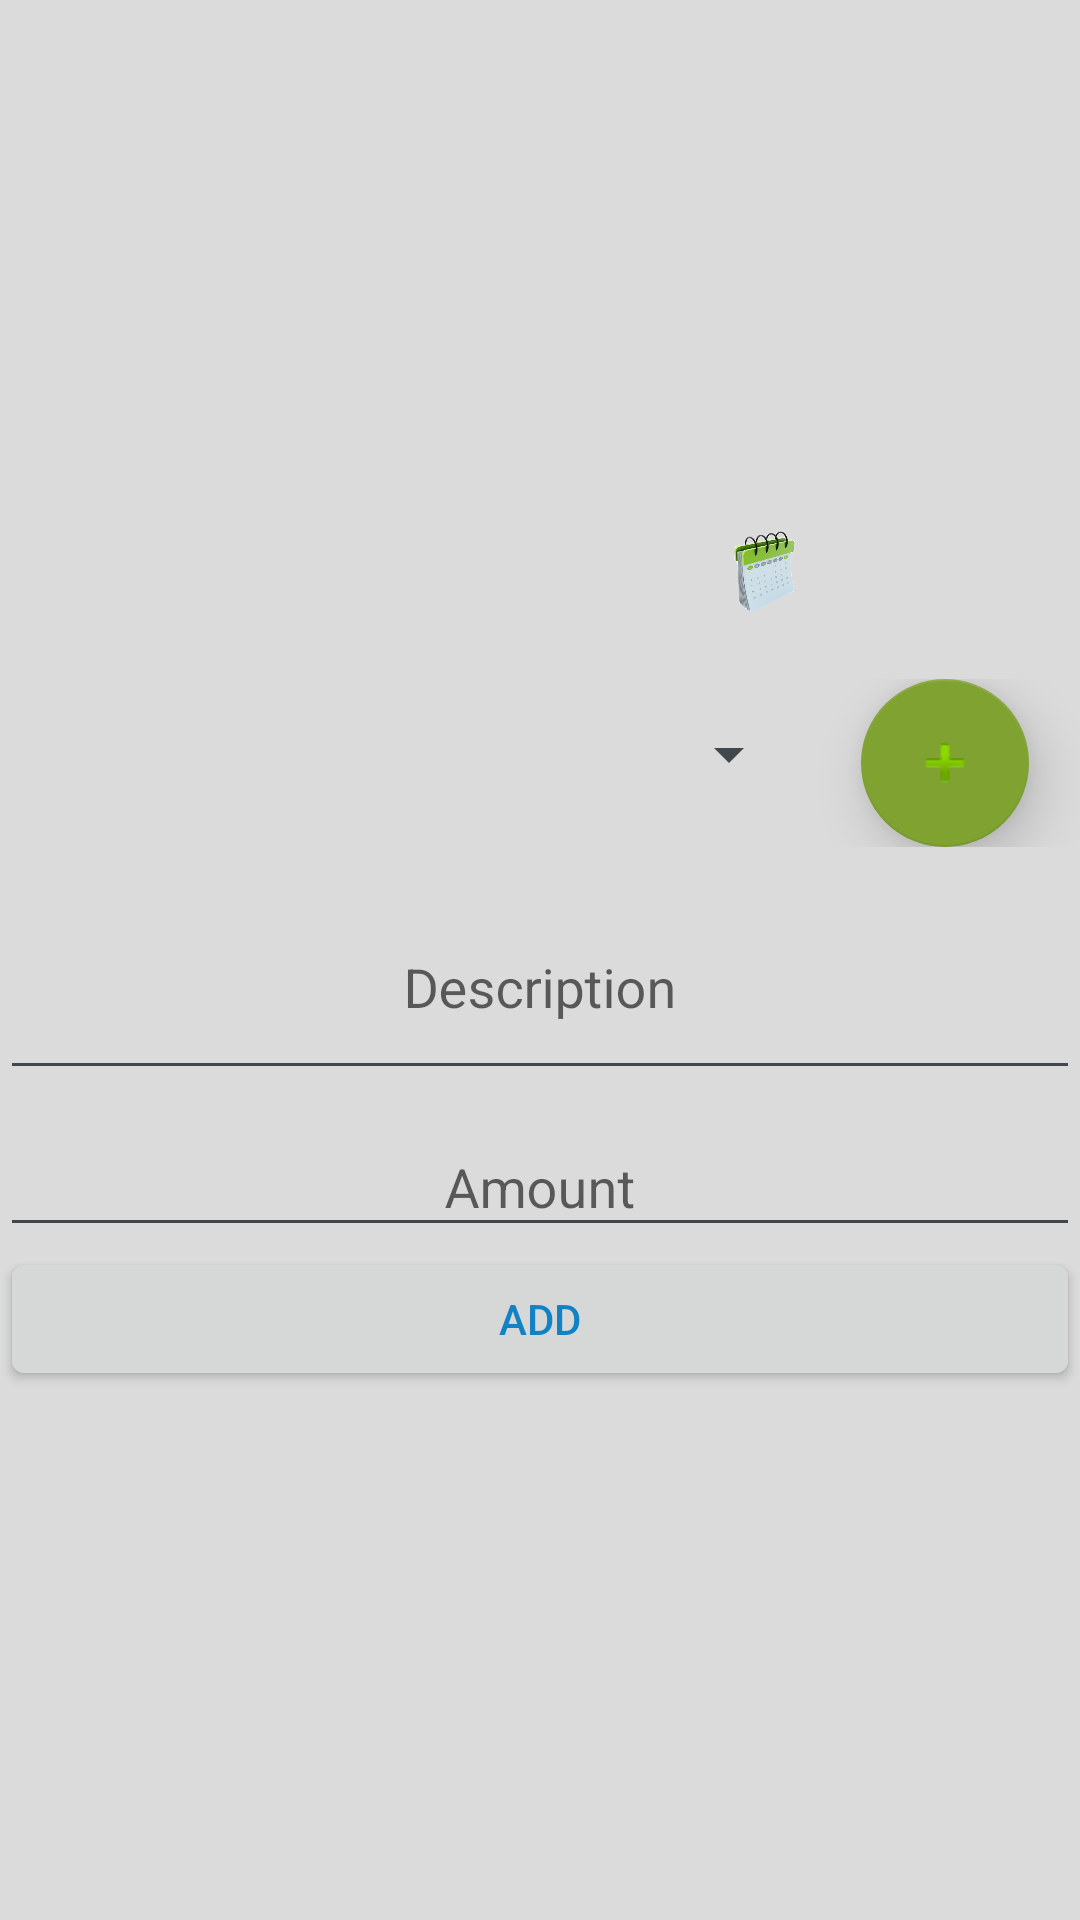

Icon bounding boxes for this 1080px x 1920px phone screenshot, format region(x1, y1, x2, y2):
add: region(861, 679, 1029, 847)
incomecalender: region(734, 531, 795, 612)
